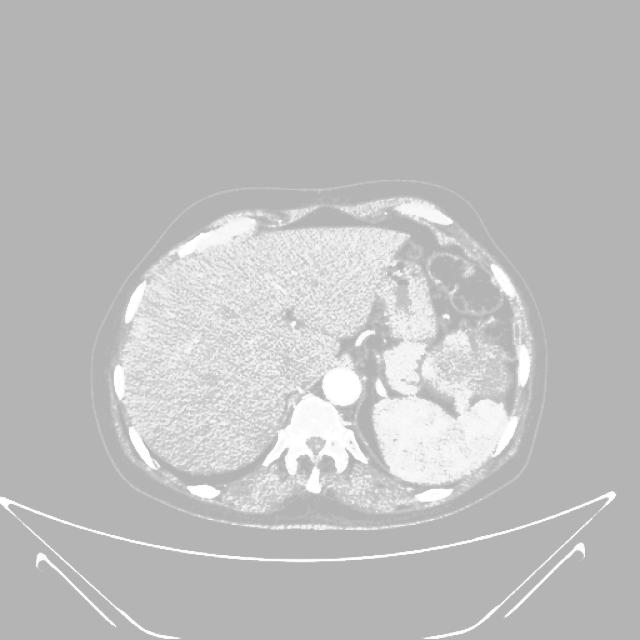TUMOR: (348, 225, 549, 479)
